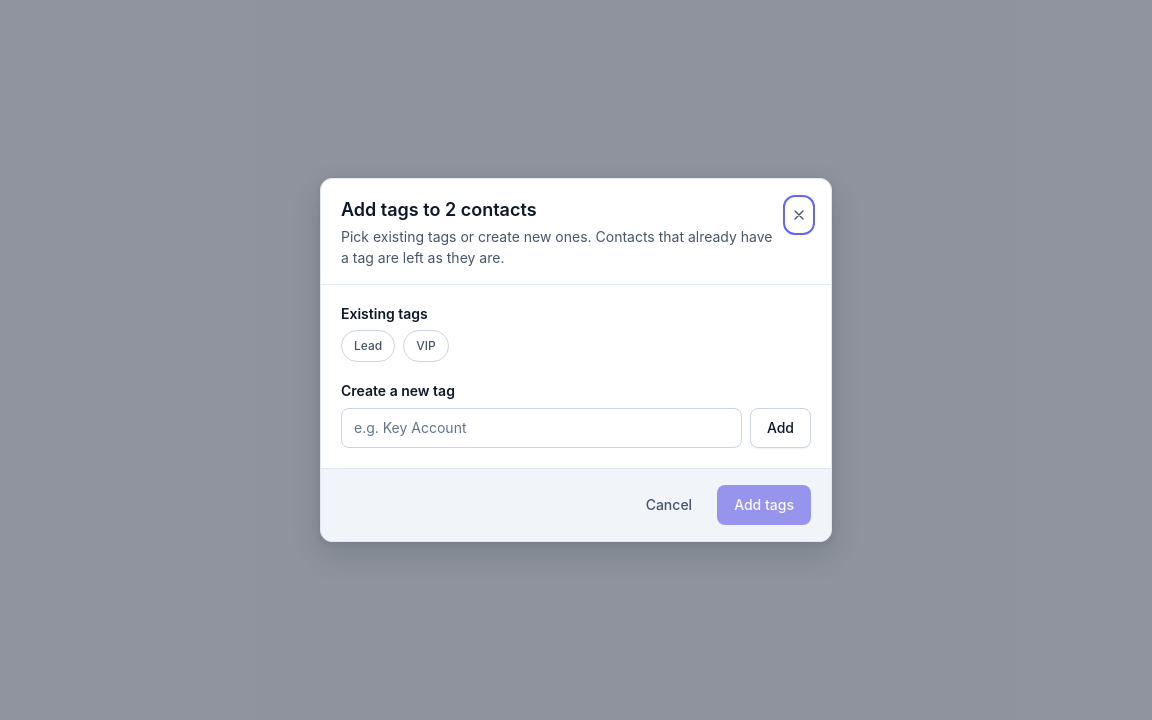
BulkTagModal › applies a mix of existing and new tags to the selected contacts
Expected: the heading "Add tags to 2 contacts" is shown, [341,199,536,220]
Expected: the button "Add tags" is disabled, [717,485,811,525]
Click the button "VIP" at (426, 346), box [403,330,449,362]
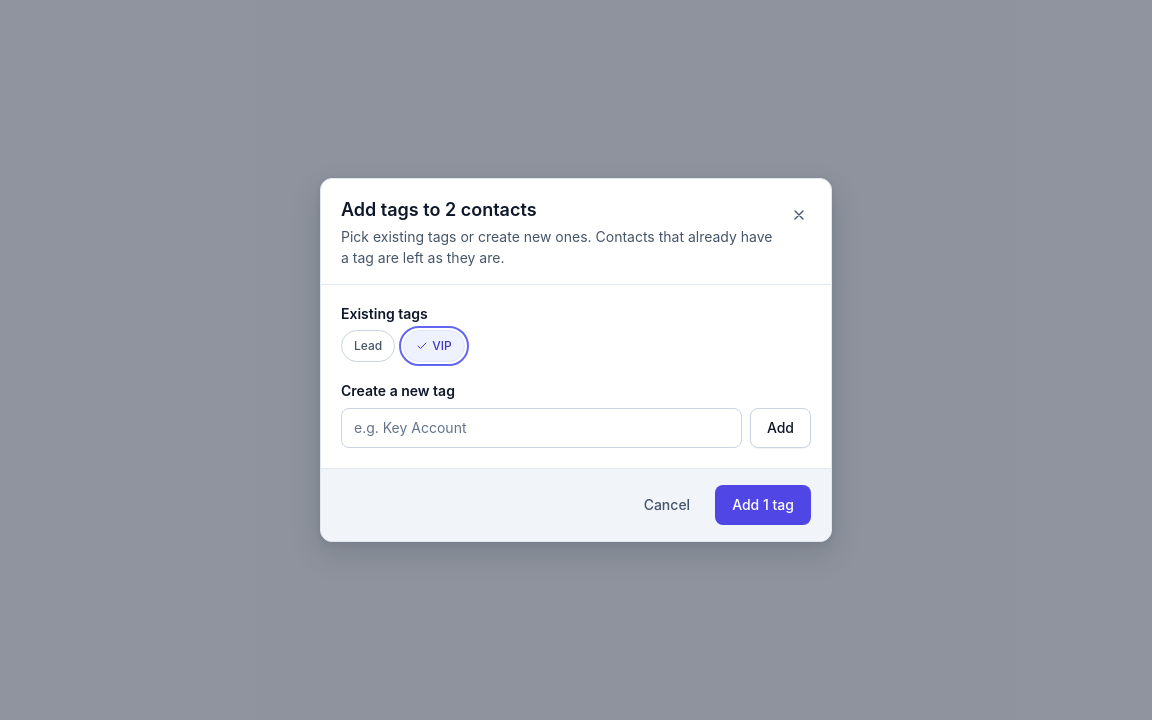
Now the button "VIP" is pressed, box [403,330,465,362]
Type "Key   Account" into the field named "New tag name" at (541, 428), box [341,408,742,448]
Then press Enter
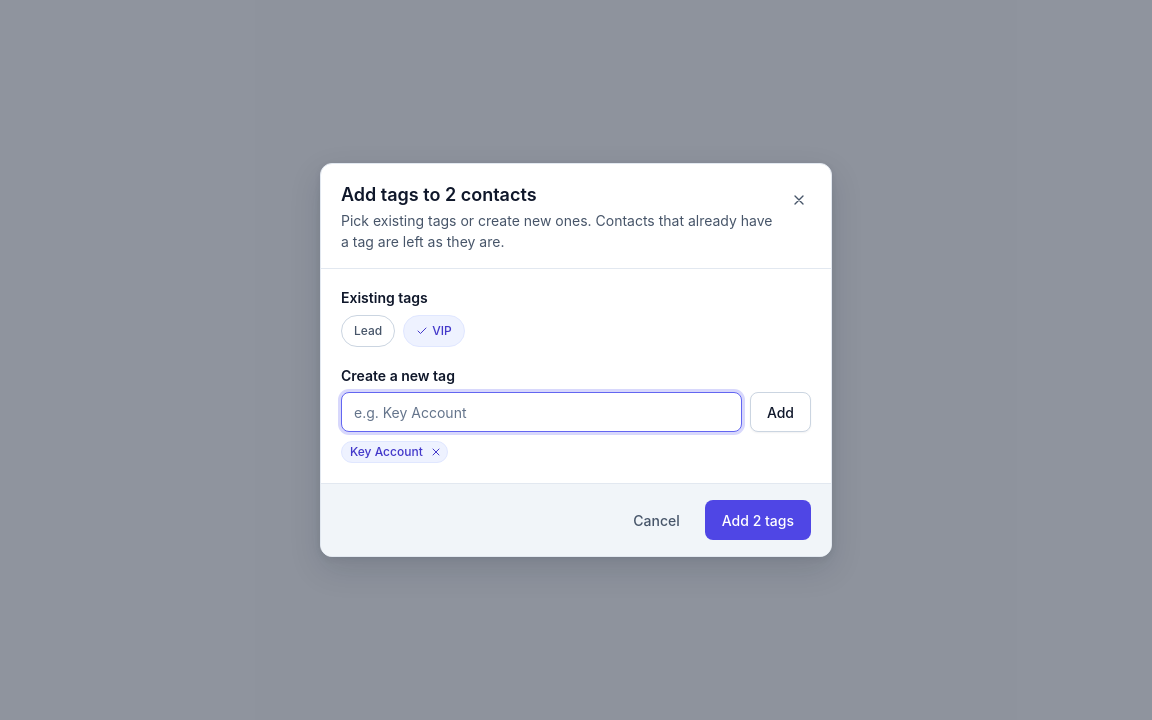
Now the list named "New tags to create" reads "Key Account", box [350,444,423,459]
Click the button "Add 2 tags" at (758, 520), box [705,500,811,540]
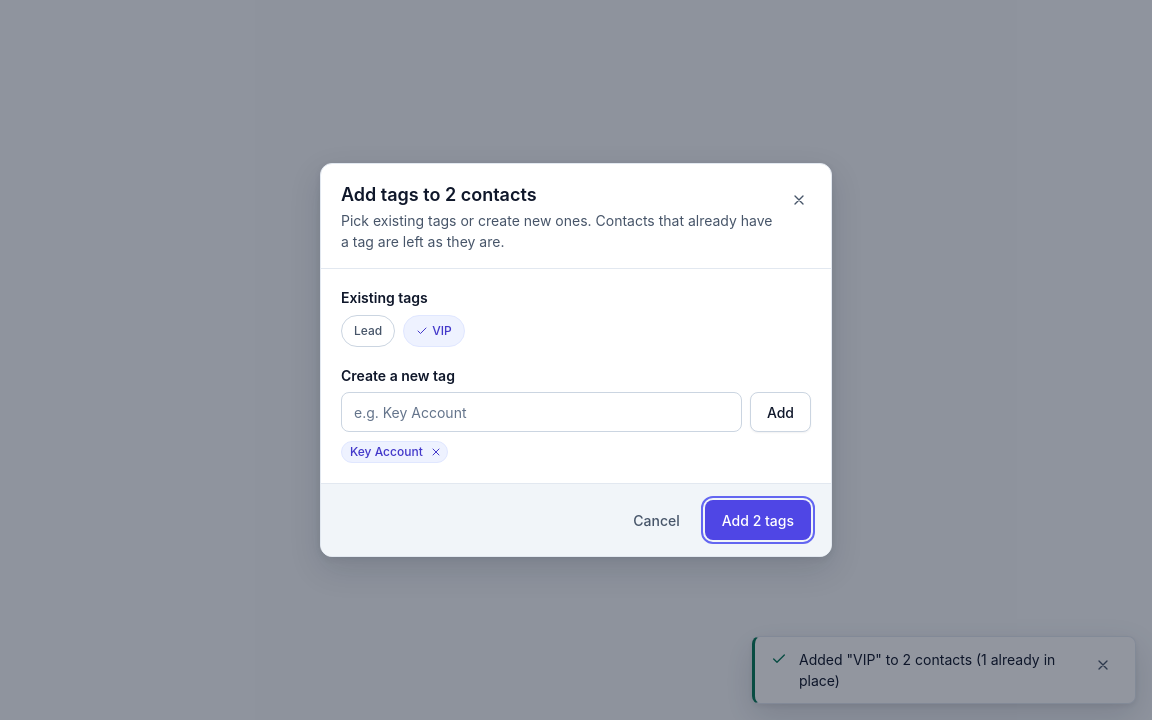
Now the text "Added \"VIP\" to 2 contacts (1 already in place)" is shown, box [799,649,1075,691]
